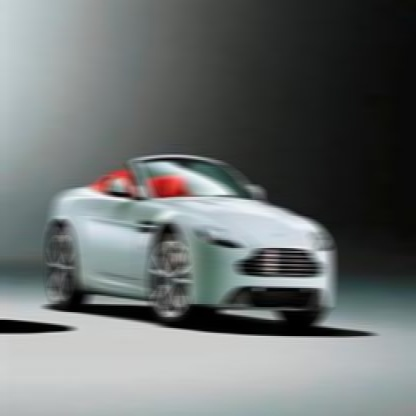Vehicle: (49, 155, 334, 333)
